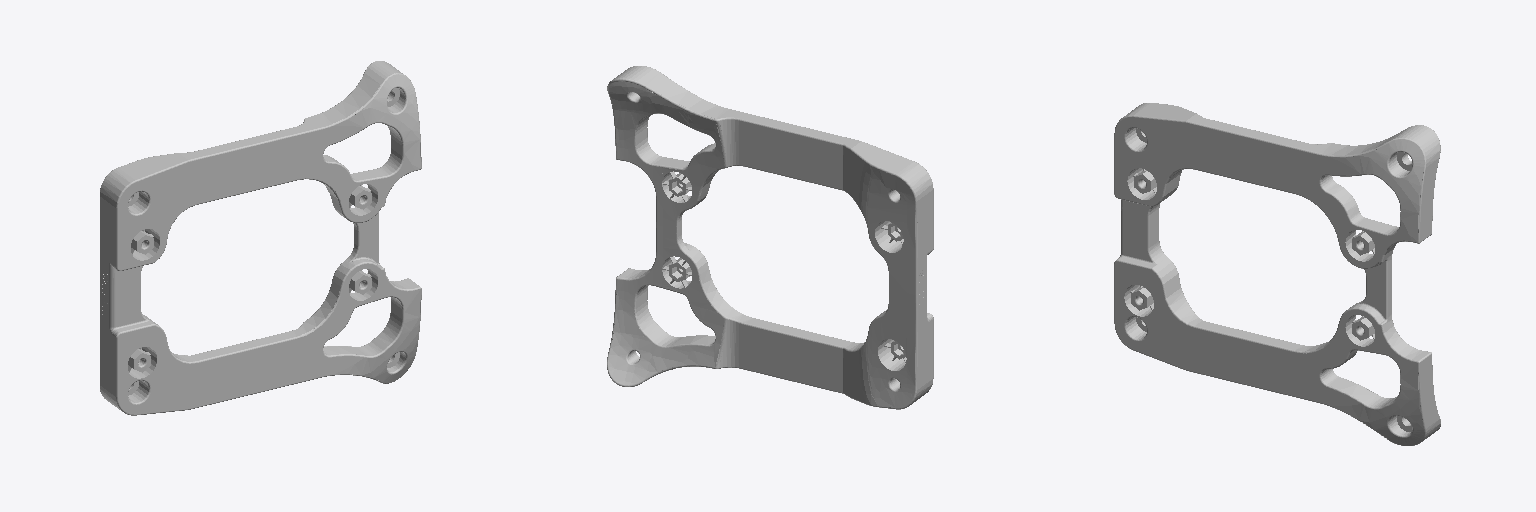
File: g1_interface.obj
3 renders of one model, left to right at view 1: azimuth 30°, elevation 25°; view 2: azimuth 150°, elevation 25°; view 3: azimuth 330°, elevation 25°, orthographic.
Parts seen in each view (by area): view 1: Corpo149; view 2: Corpo149; view 3: Corpo149.
Part boxes in pixels (left/top/right/bottom): Corpo149: left=100, top=61, right=421, bottom=415; Corpo149: left=607, top=66, right=933, bottom=409; Corpo149: left=1114, top=103, right=1440, bottom=445.
Size of the model in its own units: 20.47 by 19.72 by 3.15.